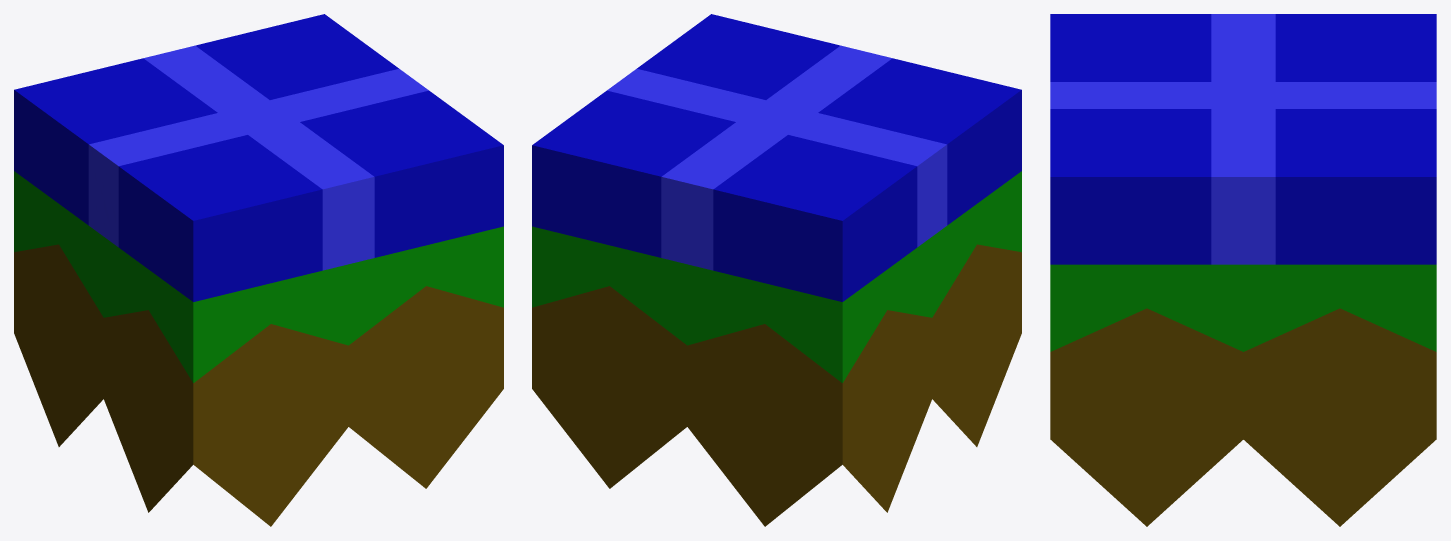
Rendered from ShopFloor.dae.
The picture shows the model from 3 angles, left to right: view 1: azimuth 30°, elevation 25°; view 2: azimuth 150°, elevation 25°; view 3: azimuth 270°, elevation 25°; orthographic projection. The views are drawn at different scales.
Visible parts, largest first — view 1: SketchUp (×7); view 2: SketchUp (×7); view 3: SketchUp (×7).
Boxes of the visible parts, x1,y1,x2,y2 form: SketchUp (×7): [14, 14, 503, 526]; SketchUp (×7): [532, 14, 1021, 526]; SketchUp (×7): [1050, 14, 1436, 526].
Bounding box in the file's own units: 12 × 12 × 12.
